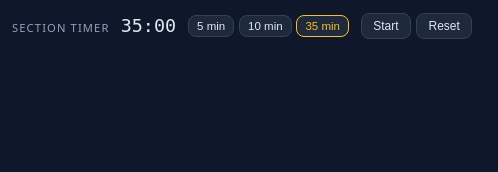
Test: SectionTimer › resets to the full section length
What coordinates should you click on to do the following:
click the button "Start"
I would click on:
 (386, 26)
Its box is x1=361 y1=14 x2=411 y2=39.
Wait 3000 ms
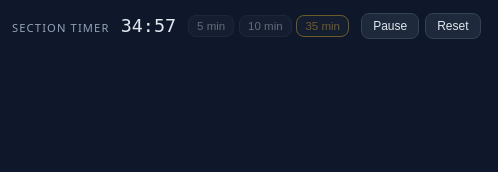
What coordinates should you click on to do the following:
click the button "Reset"
I would click on:
 (453, 26)
Its box is x1=425 y1=14 x2=481 y2=39.
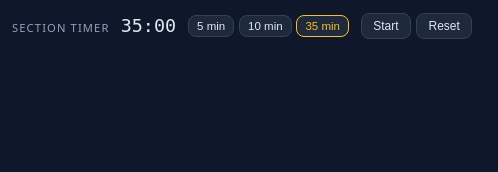
Expected: the text "35:00" is shown, x1=121 y1=12 x2=176 y2=40
Expected: the button "Start" is shown, x1=361 y1=14 x2=411 y2=39
